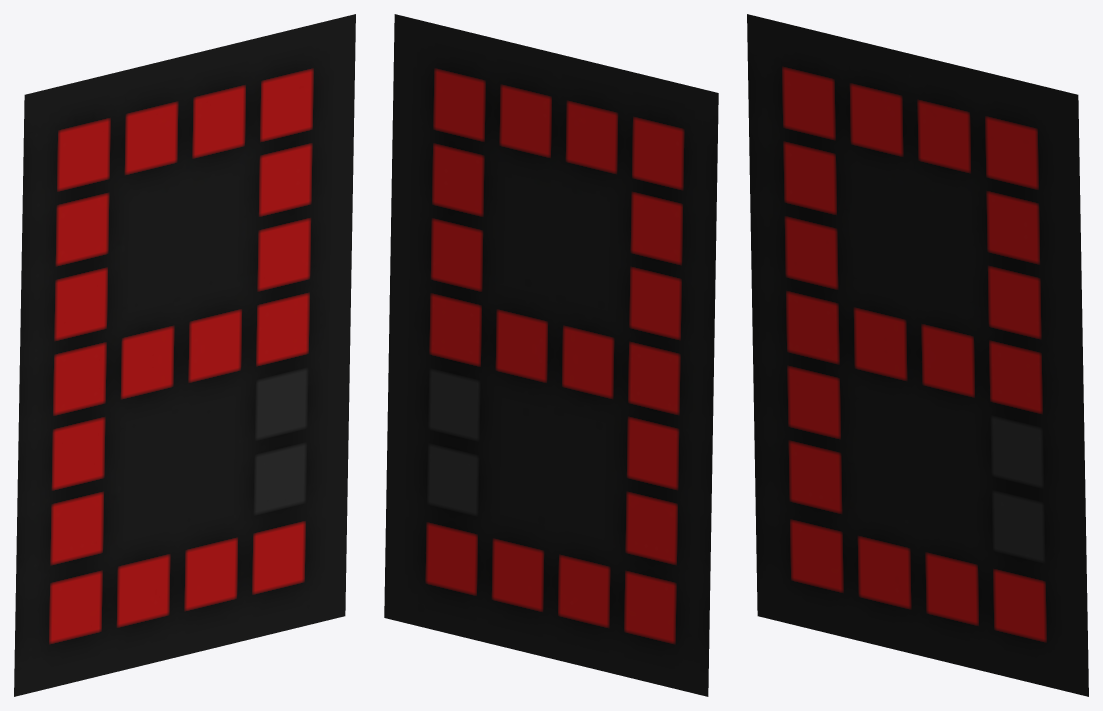
3 views of the same model, side by side, from view 1: azimuth 30°, elevation 25°; view 2: azimuth 150°, elevation 25°; view 3: azimuth 330°, elevation 25° (orthographic). The views are drawn at different scales.
Visible parts, largest first — view 1: scorebord.001; view 2: scorebord.001; view 3: scorebord.001.
Boxes of the visible parts, x1,y1,x2,y2 form: scorebord.001: (14,14,355,696); scorebord.001: (384,14,718,696); scorebord.001: (747,14,1088,696).
Bounding box in the file's own units: 0.00402 × 0.00706 × 0.000222.
Materials: 1 (1 with a texture image).
